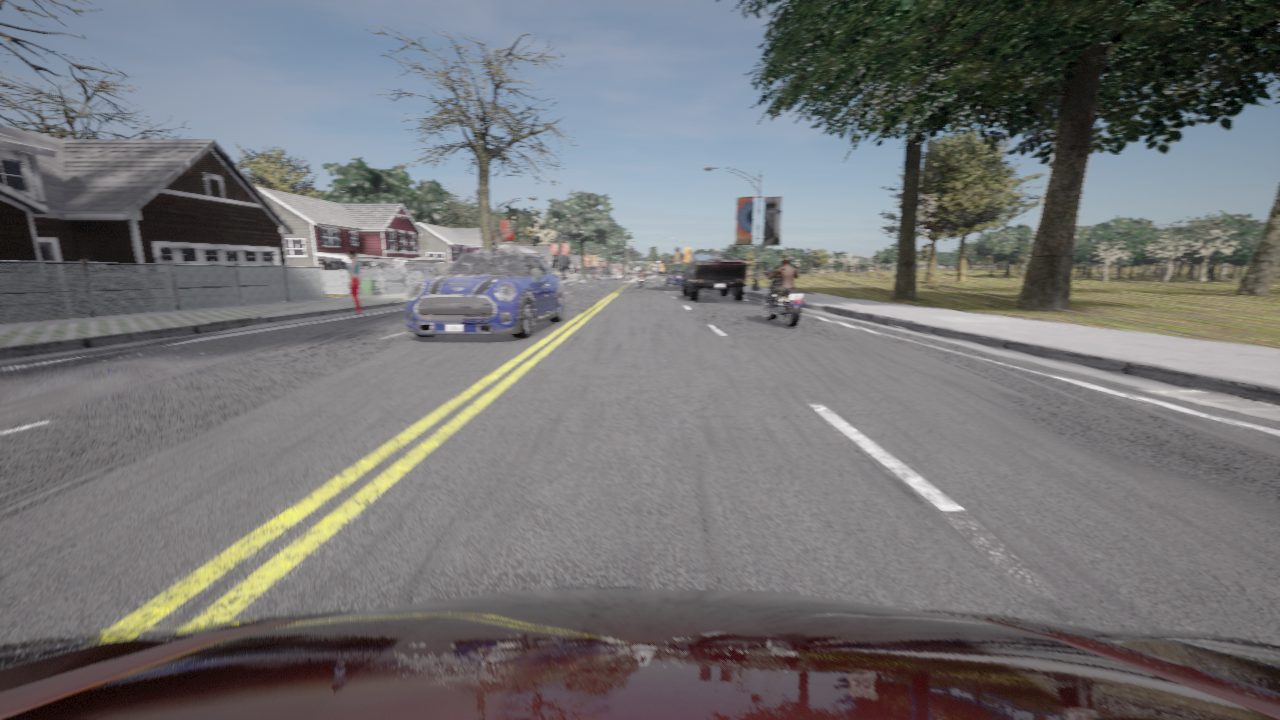cyclist: (0, 588, 1279, 719), (405, 249, 563, 338), (680, 254, 746, 301), (764, 270, 803, 327), (665, 269, 684, 286), (640, 276, 644, 287)
pedestrian: (347, 250, 362, 315)
